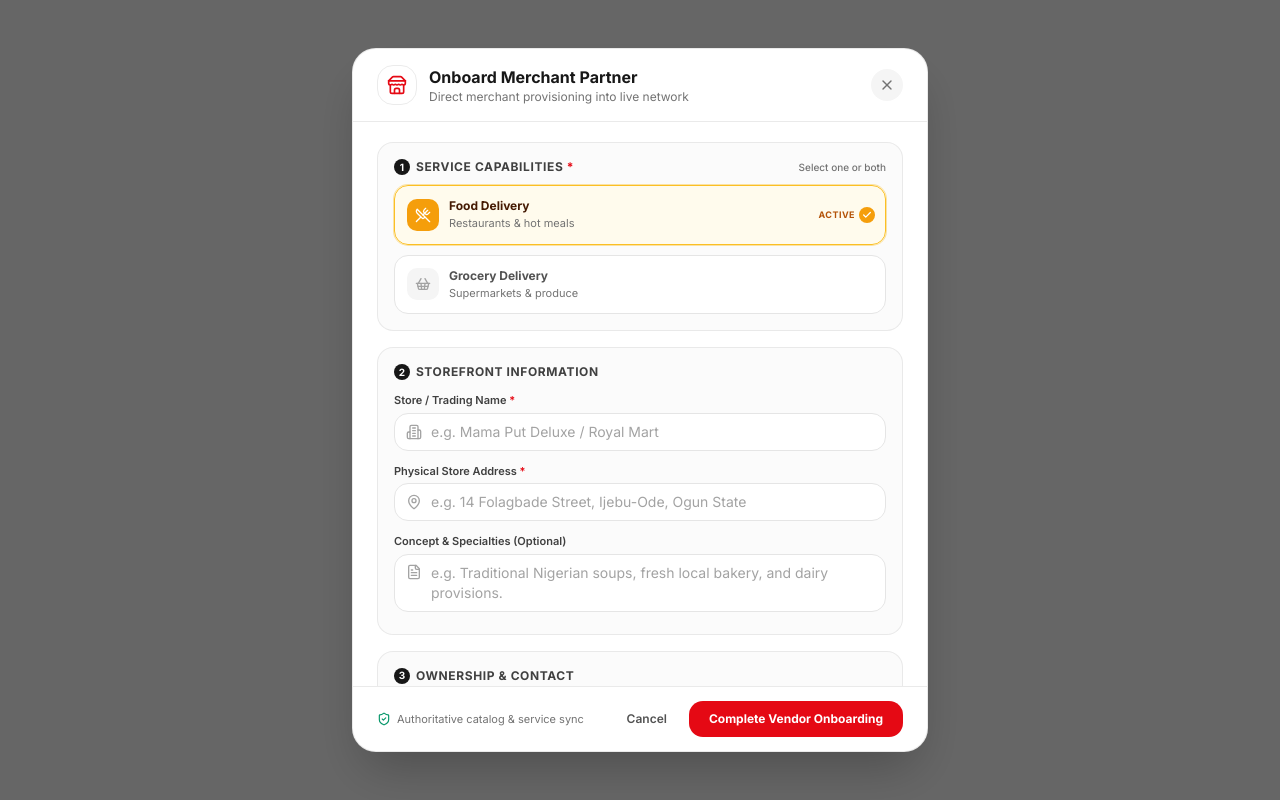
Test case: Direct Partner Onboarding Modals › DirectOnboardVendorModal › allows toggling multi-service capabilities (food and grocery simultaneously)
Click the button "Grocery Delivery Supermarkets & produce": click(423, 284) 394,254 -> 886,314
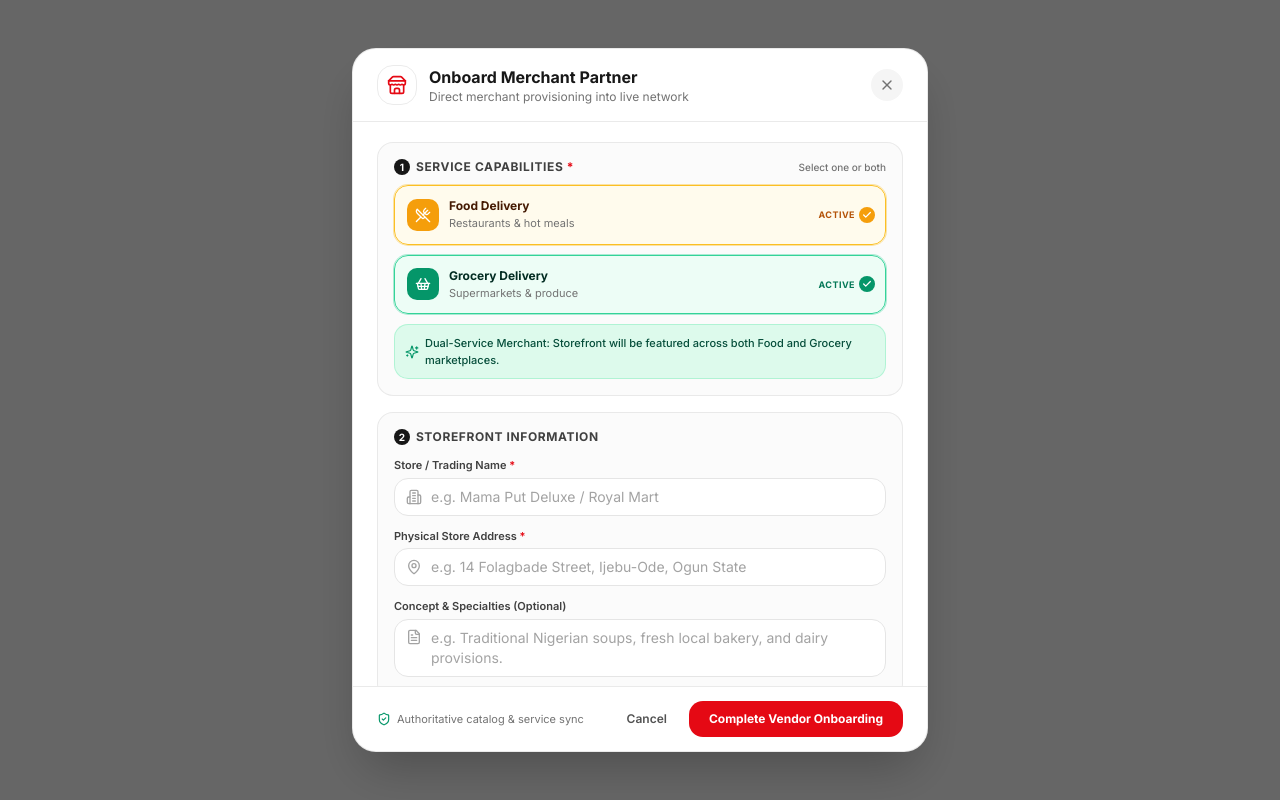
Check: the text "Active" is shown 2 times, box 819,208 -> 855,222; 819,278 -> 855,291
